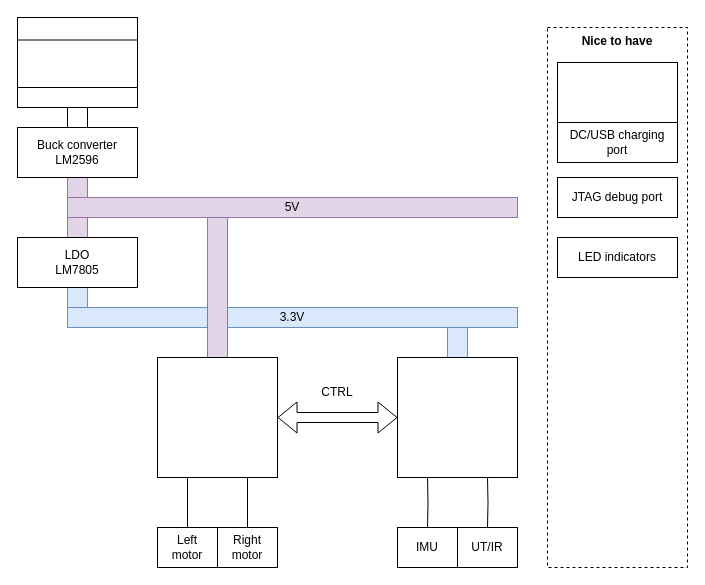
This 705x585 diagram has some shape labels left out. Here are the shapes that lost their labels. From the top down, the centre of each, then its label:
At [77,62]: "11.1V Li-Po (6V-12.6V)".
At [617,92]: "Charging circuitry".
At [217,417]: "Dual motor driver L293D".
At [457,417]: "Connectivity ESP8266".
